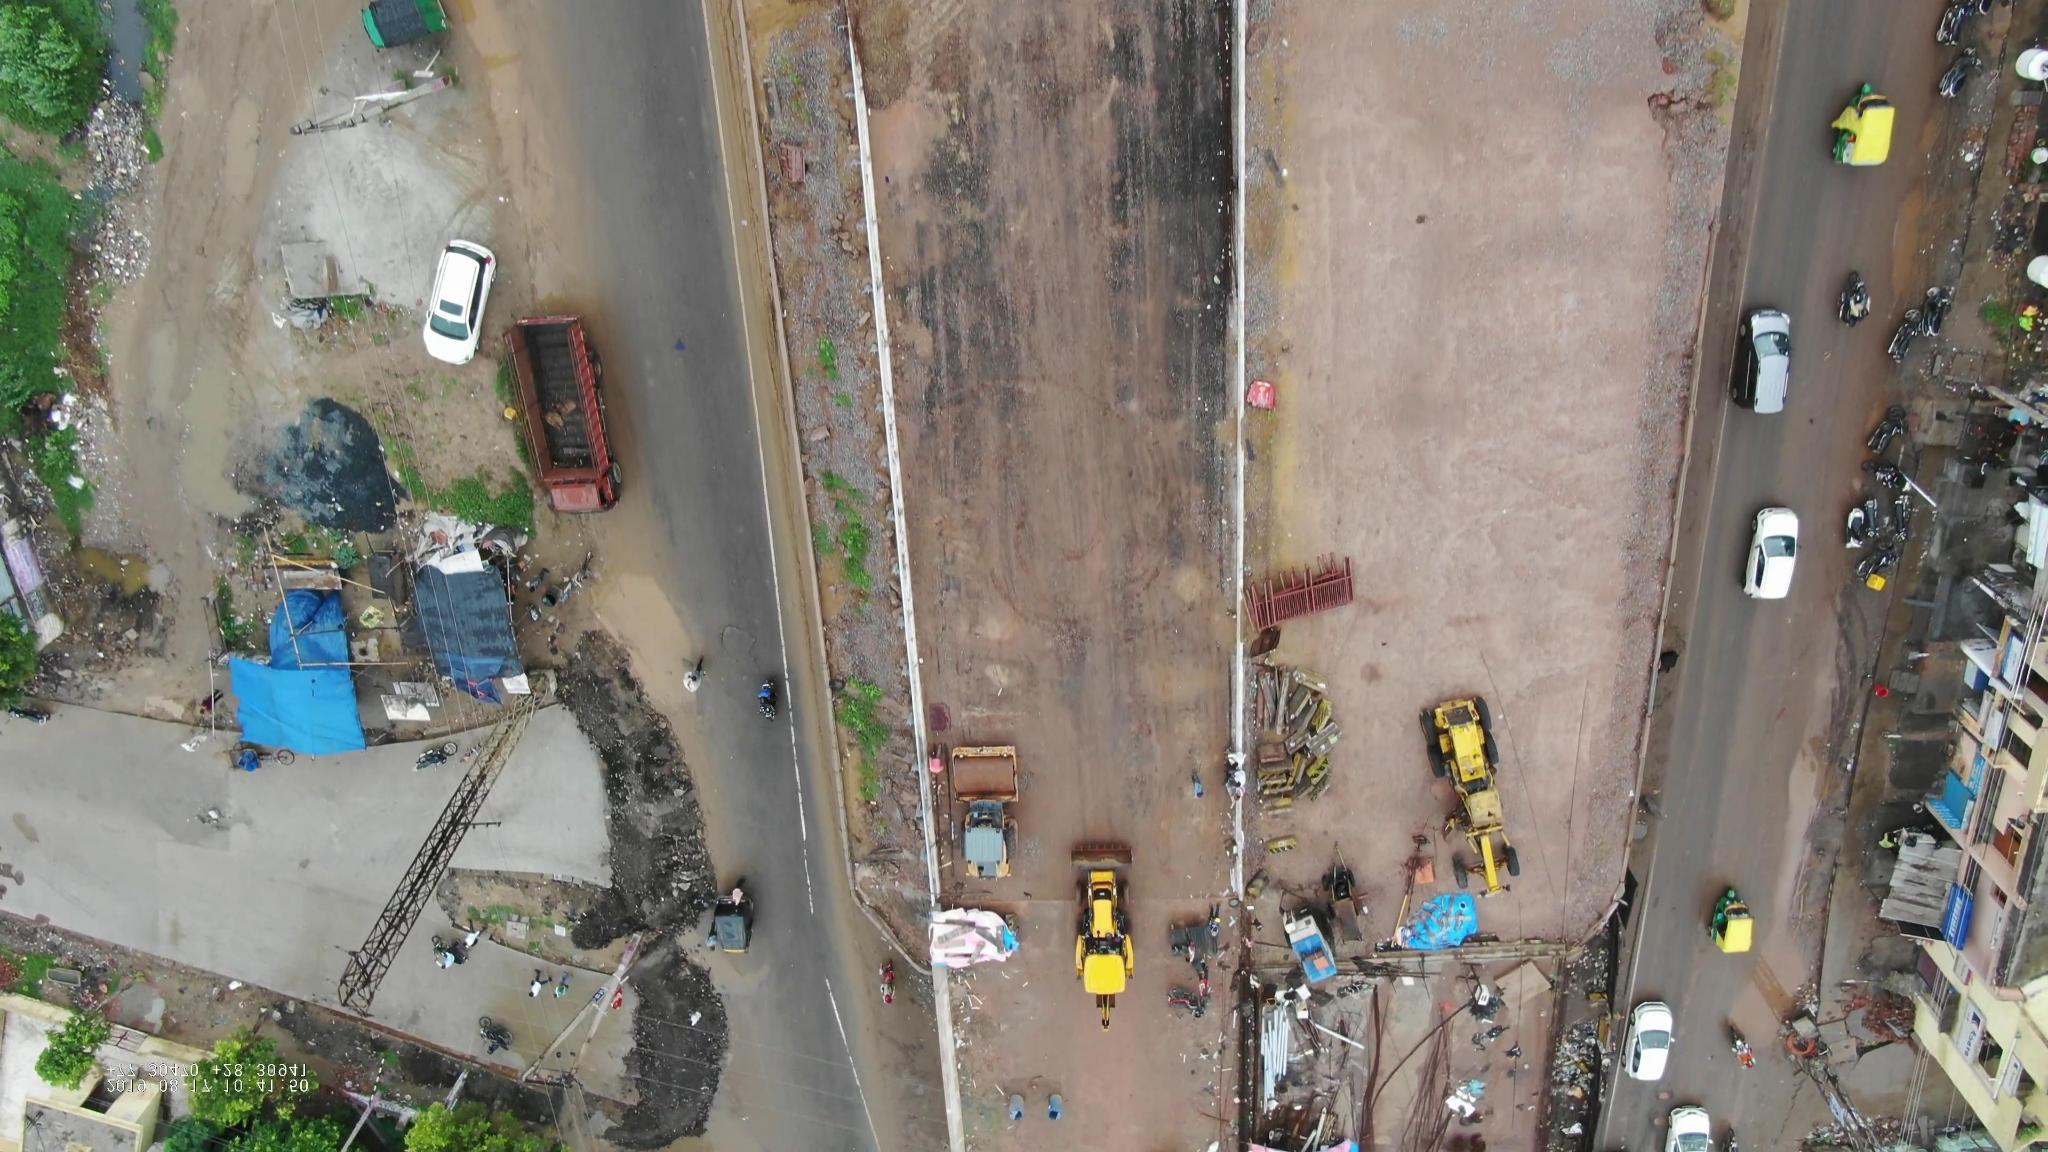Road_side_garbage: (80, 113, 166, 300)
